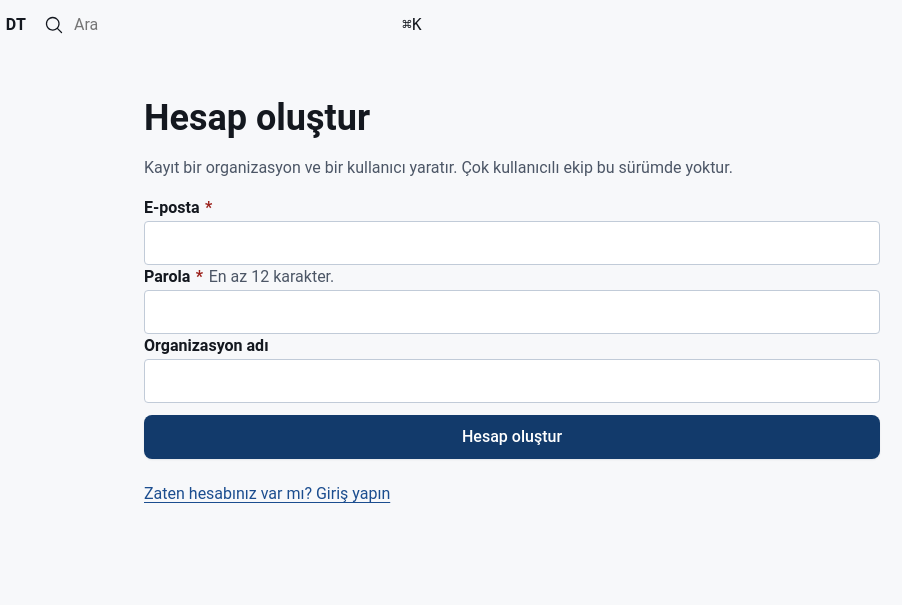
Test: P1 - authentication errors say what actually went wrong › a rejected registration reads as a validation message, not a raw status
Expected: the element that starts with "Hesap oluştur" is shown, [143,97,880,503]
Type "biri@ornek.com.tr" into the field labelled "E-posta *" at (512, 243), box [144,221,880,265]
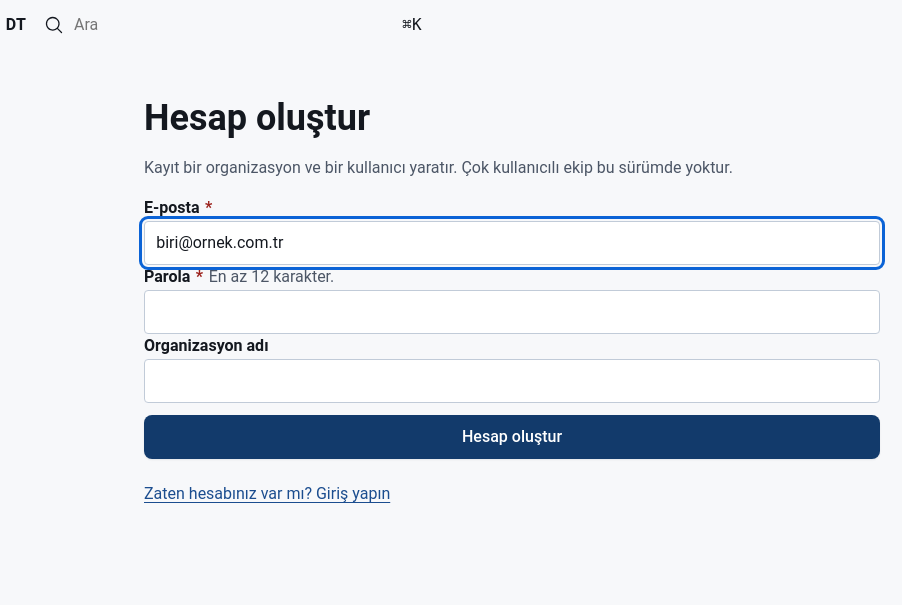
Type "kisa" into the password field labelled "Parola * En az 12 karakter." at (512, 312), box [144,290,880,334]
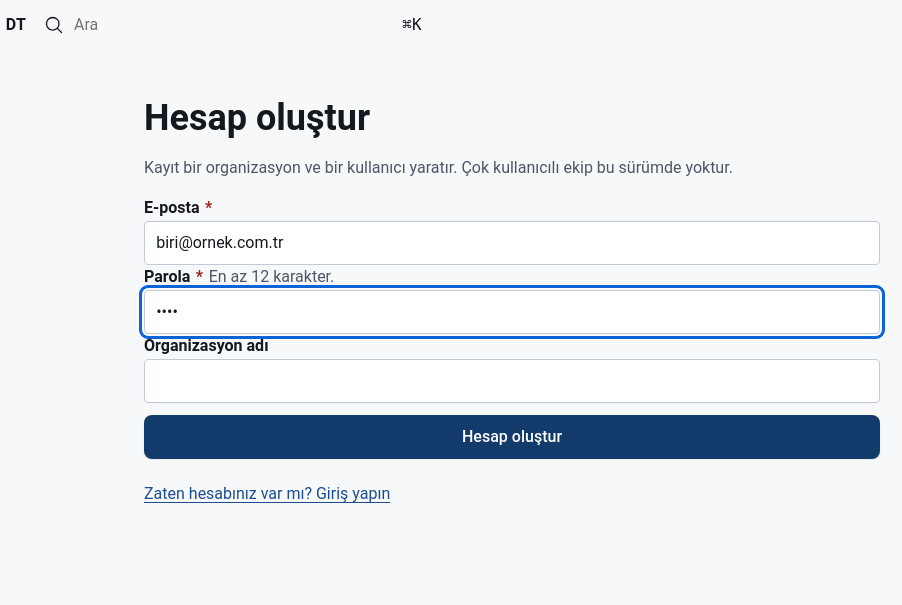
Click the button "Hesap oluştur" at (512, 437), box [144,415,880,459]
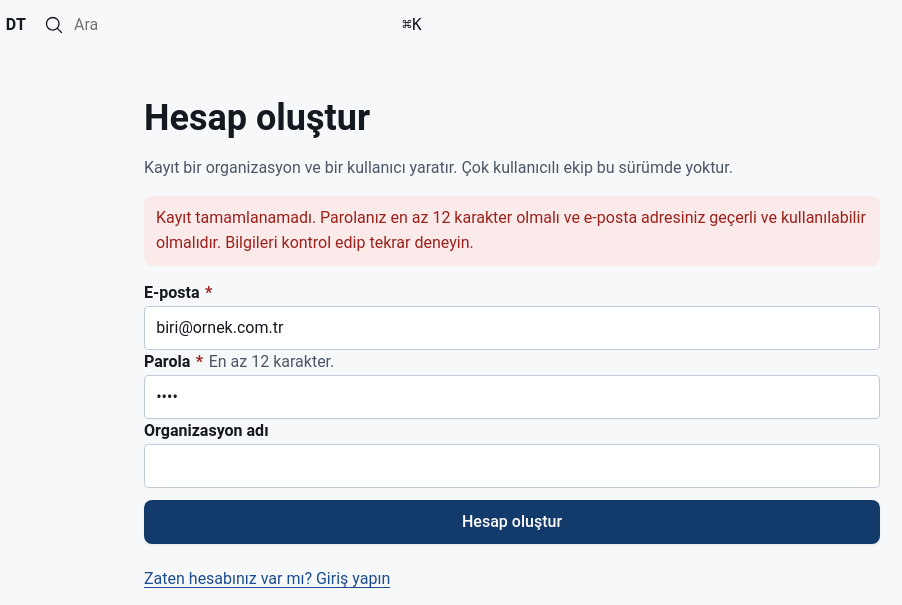
Expected: the message does not show "İstek başarısız", [144,196,880,266]
Expected: the message shows "Kayıt tamamlanamadı", [156,208,866,252]
